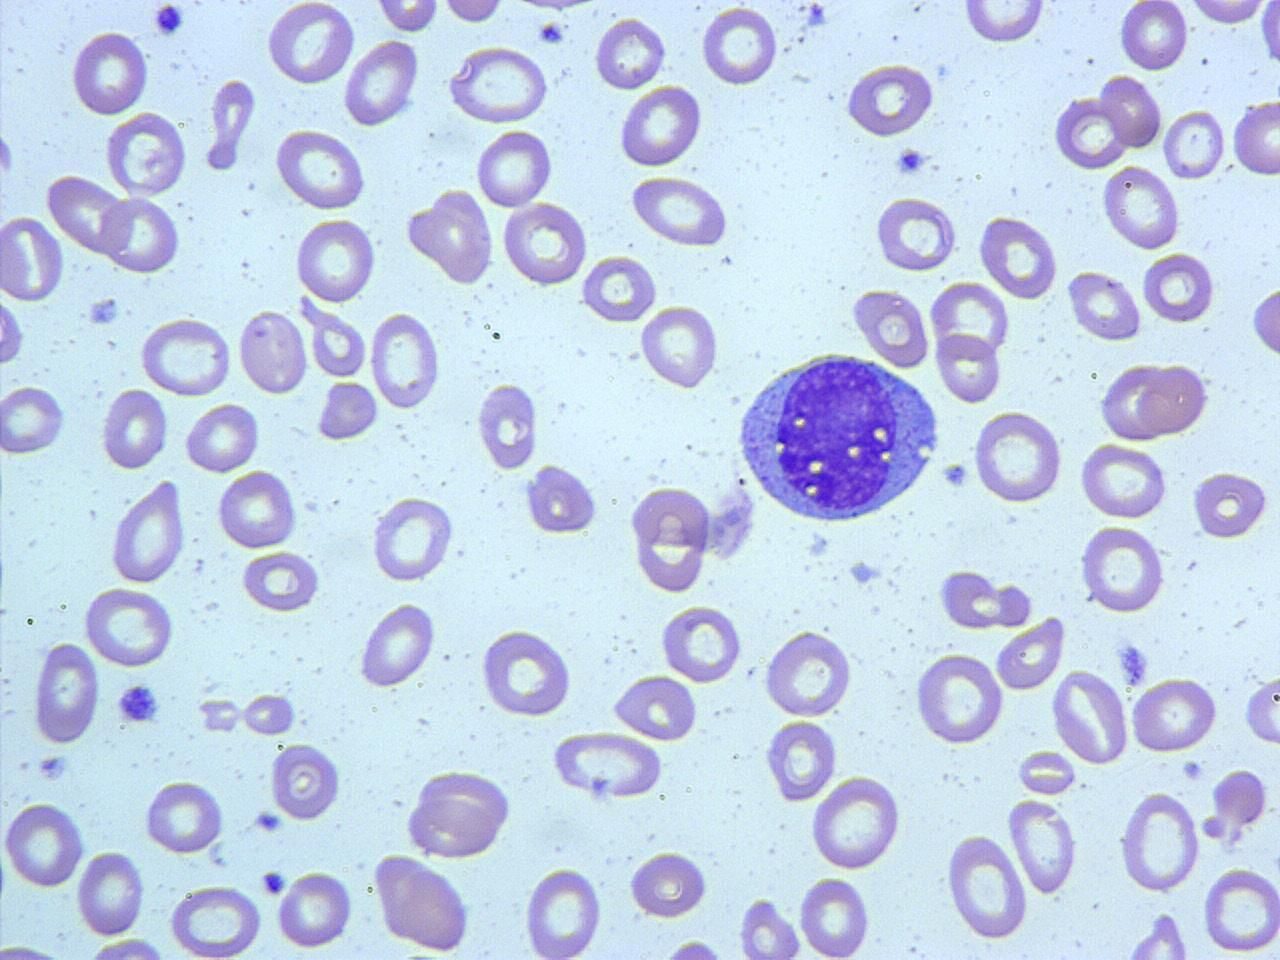Platelets: (116, 680, 161, 724), (1115, 640, 1151, 690), (151, 2, 187, 38), (894, 145, 928, 177), (36, 752, 70, 784), (87, 295, 119, 326), (938, 460, 970, 490), (260, 868, 289, 898), (535, 19, 567, 46), (848, 560, 882, 584), (1179, 758, 1207, 784), (806, 3, 828, 24)
RBC: (628, 483, 714, 595), (970, 408, 1065, 506), (808, 772, 902, 872), (944, 832, 1029, 942), (477, 626, 575, 720), (914, 650, 1006, 748), (1117, 790, 1201, 894), (445, 42, 552, 125), (108, 475, 186, 587), (760, 628, 854, 720), (1078, 521, 1168, 616), (137, 314, 235, 400), (81, 584, 178, 670), (273, 126, 368, 213), (500, 200, 592, 288), (552, 730, 665, 801), (1050, 666, 1130, 764), (370, 493, 455, 586), (1, 798, 85, 890), (263, 3, 356, 87), (628, 173, 732, 248), (368, 309, 442, 412), (356, 598, 437, 692), (522, 864, 603, 959), (1100, 161, 1182, 253), (408, 766, 514, 838), (617, 83, 702, 170), (1077, 440, 1169, 521), (31, 640, 102, 746), (341, 36, 420, 130), (844, 61, 937, 140), (977, 212, 1059, 302), (294, 216, 377, 306), (638, 302, 720, 392), (1200, 864, 1280, 956), (103, 110, 186, 197), (1129, 674, 1219, 754), (423, 188, 496, 286), (45, 169, 129, 255), (70, 28, 149, 118), (928, 280, 1012, 365), (872, 193, 958, 274), (168, 884, 264, 958), (659, 602, 744, 685), (700, 2, 780, 89), (1008, 798, 1078, 895), (216, 467, 298, 550), (850, 285, 930, 370), (101, 193, 181, 276), (236, 306, 308, 398), (398, 866, 473, 956), (474, 127, 554, 210), (405, 794, 502, 860), (275, 868, 354, 950), (798, 872, 872, 959), (143, 777, 224, 856), (76, 847, 146, 937), (766, 716, 838, 804), (608, 674, 699, 741), (628, 846, 710, 922), (475, 380, 540, 473), (1065, 266, 1143, 344), (592, 13, 668, 92), (994, 613, 1068, 694), (268, 740, 342, 822), (1098, 360, 1170, 443), (100, 386, 169, 472), (1140, 248, 1215, 326), (1053, 94, 1129, 171), (523, 460, 599, 537), (183, 401, 261, 476), (578, 252, 656, 326), (1, 213, 65, 304), (1137, 361, 1211, 438), (1190, 468, 1268, 542), (1098, 70, 1164, 152), (1118, 0, 1190, 75), (239, 549, 321, 614), (204, 77, 258, 172), (936, 328, 1002, 404), (1, 382, 67, 458), (1163, 105, 1227, 182), (937, 566, 1006, 634), (308, 305, 368, 380), (736, 892, 804, 956), (959, 0, 1046, 47), (316, 378, 378, 443), (1119, 909, 1195, 959), (1231, 98, 1279, 177), (1213, 766, 1271, 826), (1012, 746, 1078, 796), (1242, 672, 1280, 748), (240, 690, 299, 738), (372, 0, 442, 34), (1185, 0, 1269, 27), (1250, 285, 1280, 359), (0, 294, 26, 371), (438, 0, 510, 27), (658, 936, 729, 960), (1257, 0, 1280, 71)
WBC: (732, 347, 942, 528), (272, 129, 366, 216), (554, 733, 664, 806)
